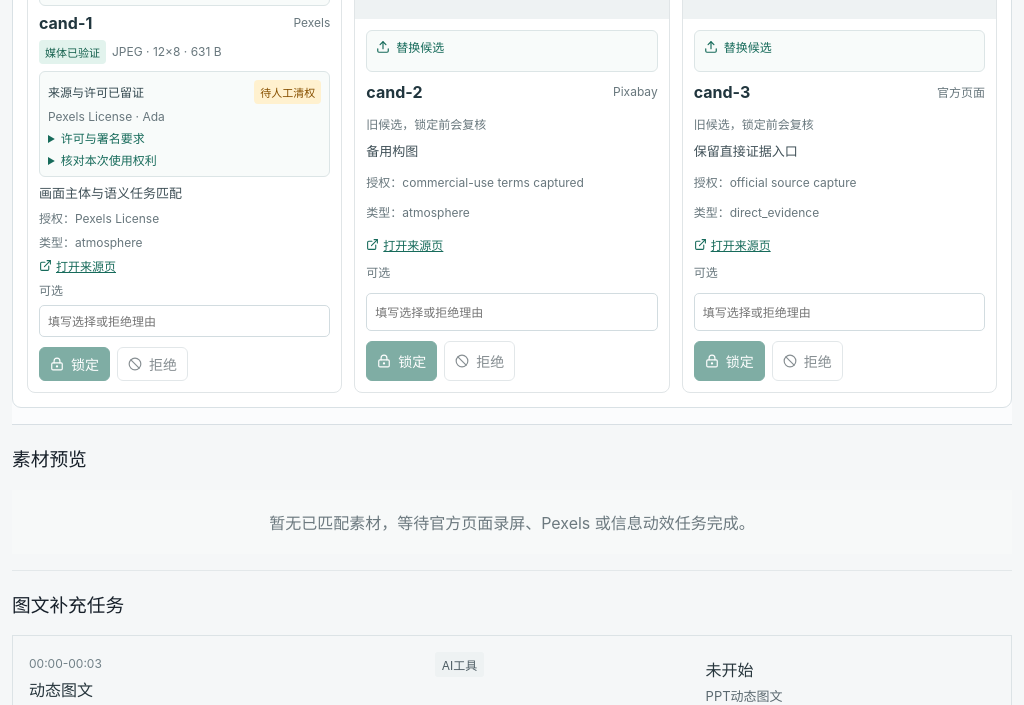
素材库页面 › 必须填写理由后才能锁定或拒绝候选，并把状态写回项目
(page scrolled)
Step 1. Type "保留直接证据" into the field named "候选 cand-1 操作理由" → (185, 321), box [39,305,330,337]
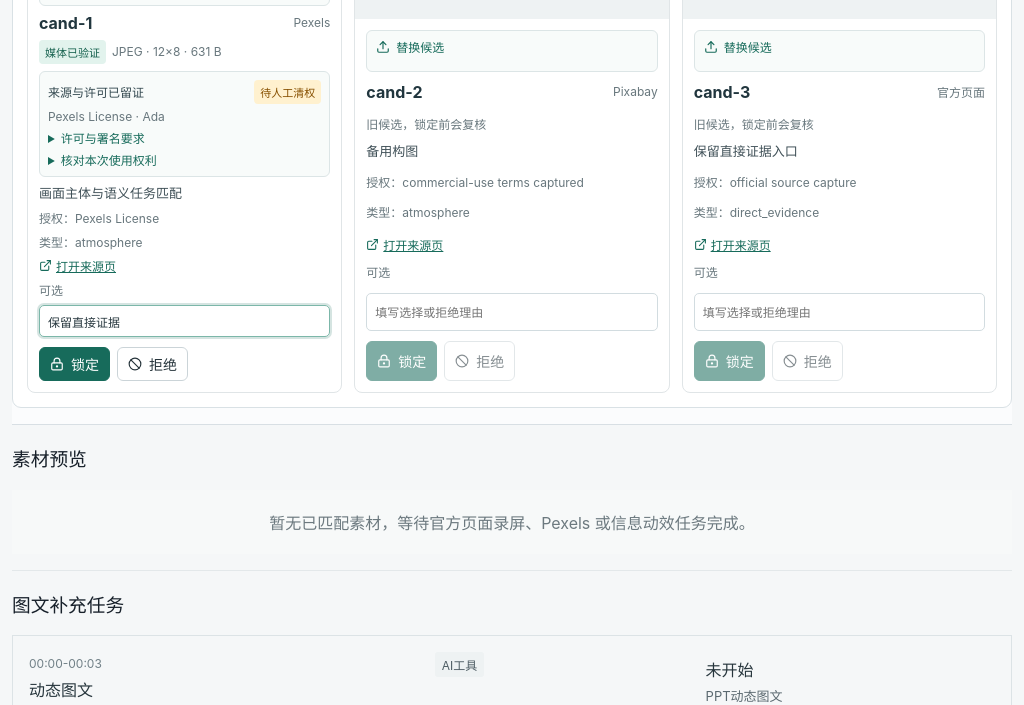
Step 2. Click the button with aria-label "锁定候选 cand-1" → click(74, 364), box [39,347,110,381]
(page scrolled)
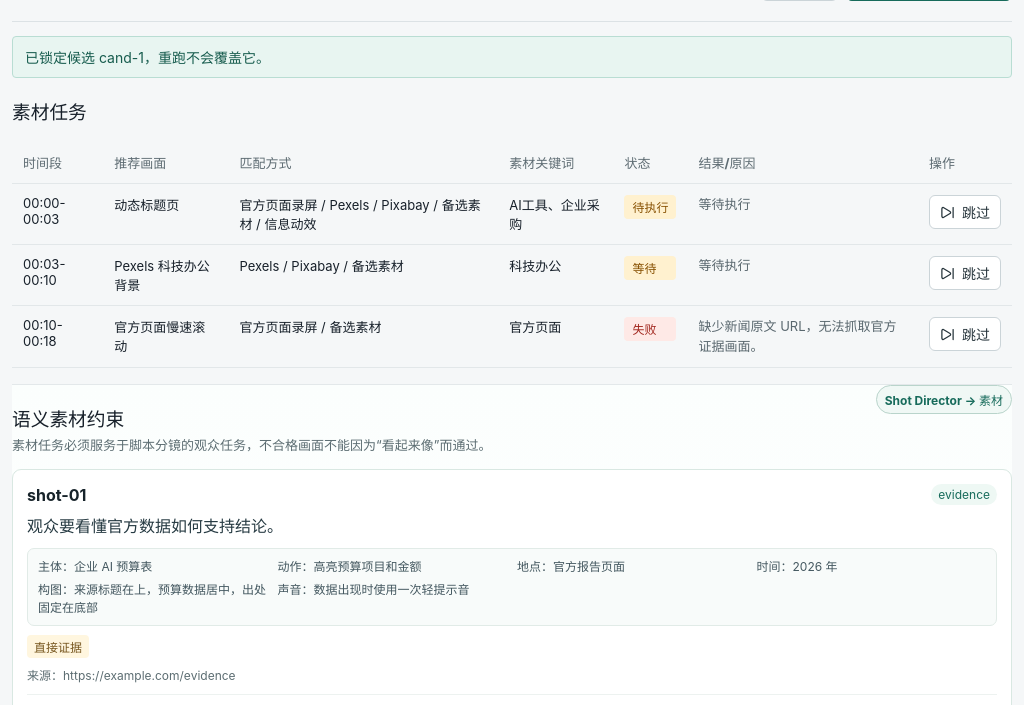
Result: the text "已锁定候选 cand-1，重跑不会覆盖它。" is shown at [12,36,1012,78]
